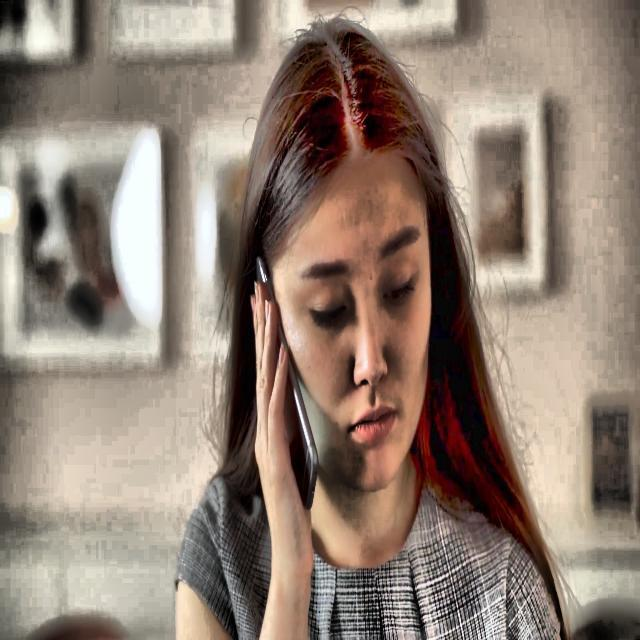Phone: (249, 252, 321, 520)
